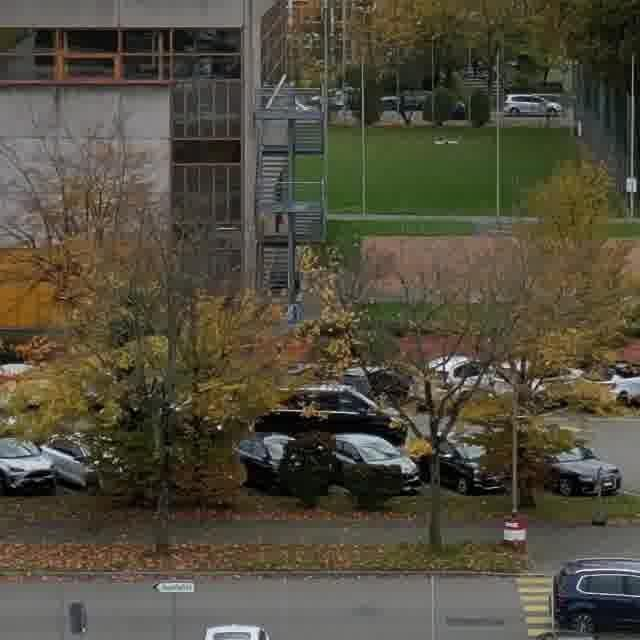Drohne: (433, 138, 459, 145)
